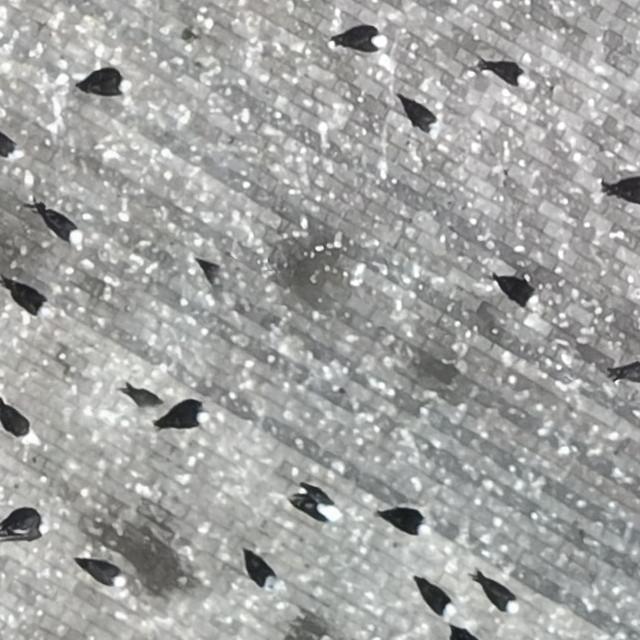F: (130, 390, 160, 407)
umineko: (294, 484, 338, 521), (419, 582, 452, 615), (498, 279, 538, 306), (43, 212, 78, 242), (11, 285, 47, 314), (403, 101, 436, 132), (1, 405, 32, 438), (483, 582, 517, 610), (159, 406, 204, 426), (83, 76, 127, 96), (340, 33, 384, 53), (248, 557, 275, 589), (487, 61, 528, 82), (84, 564, 122, 586), (9, 514, 46, 536), (388, 512, 426, 532), (611, 181, 640, 203), (0, 132, 16, 157)
